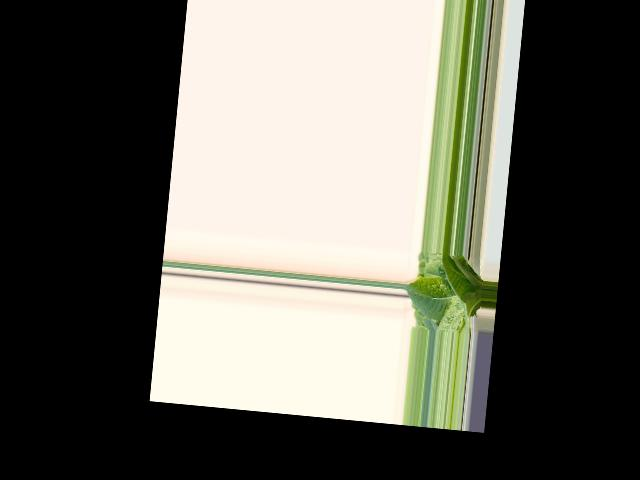lettuce: (408, 252, 486, 327)
